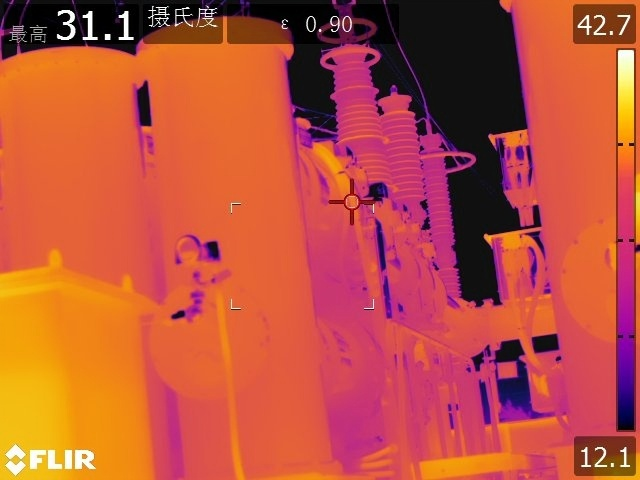lightning arrester: (413, 117, 480, 308)
potential transformer: (379, 83, 427, 239)
tube: (311, 5, 389, 191)
